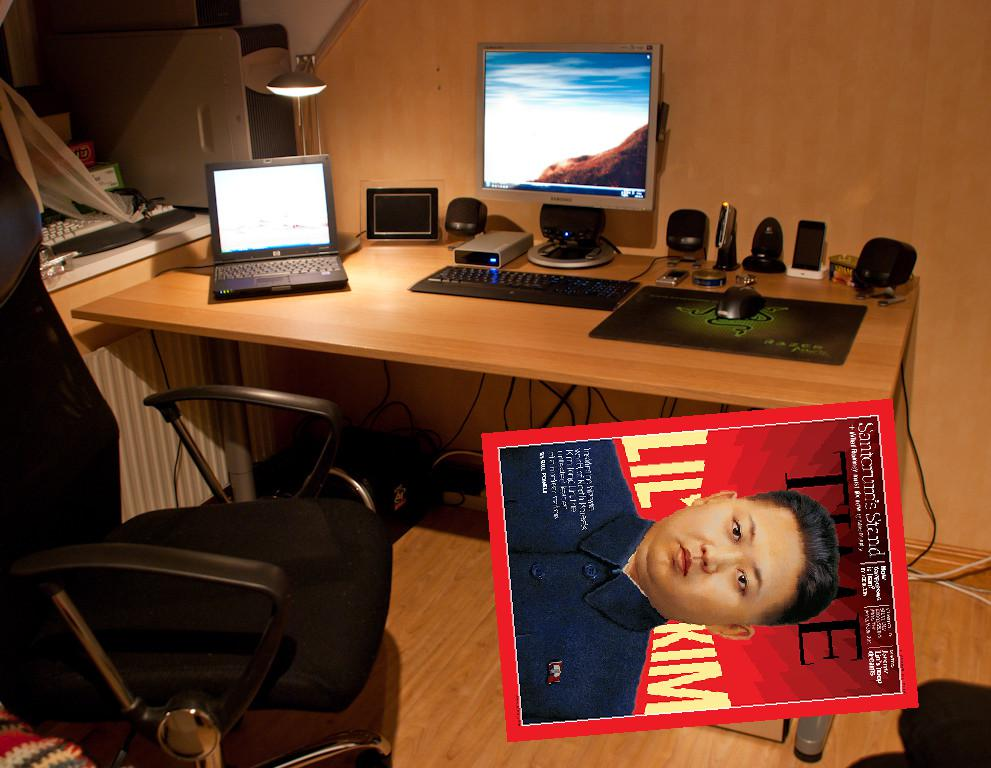times: (478, 392, 920, 747)
